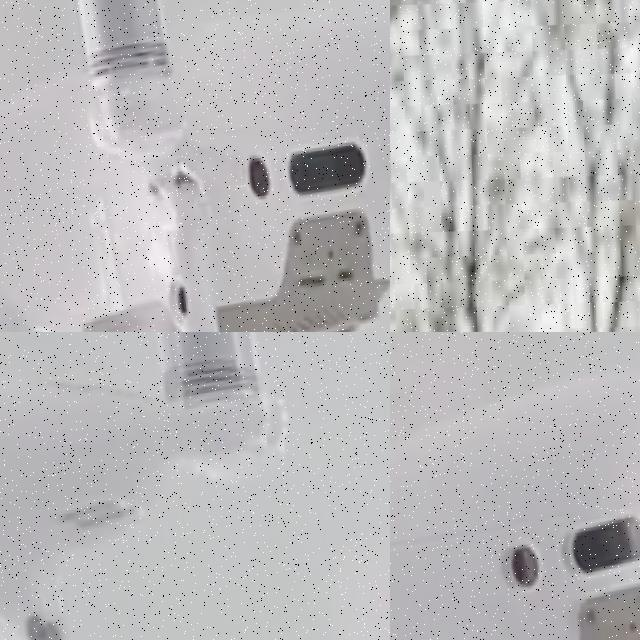drone: (0, 0, 390, 332), (0, 332, 390, 640), (390, 332, 640, 640)
